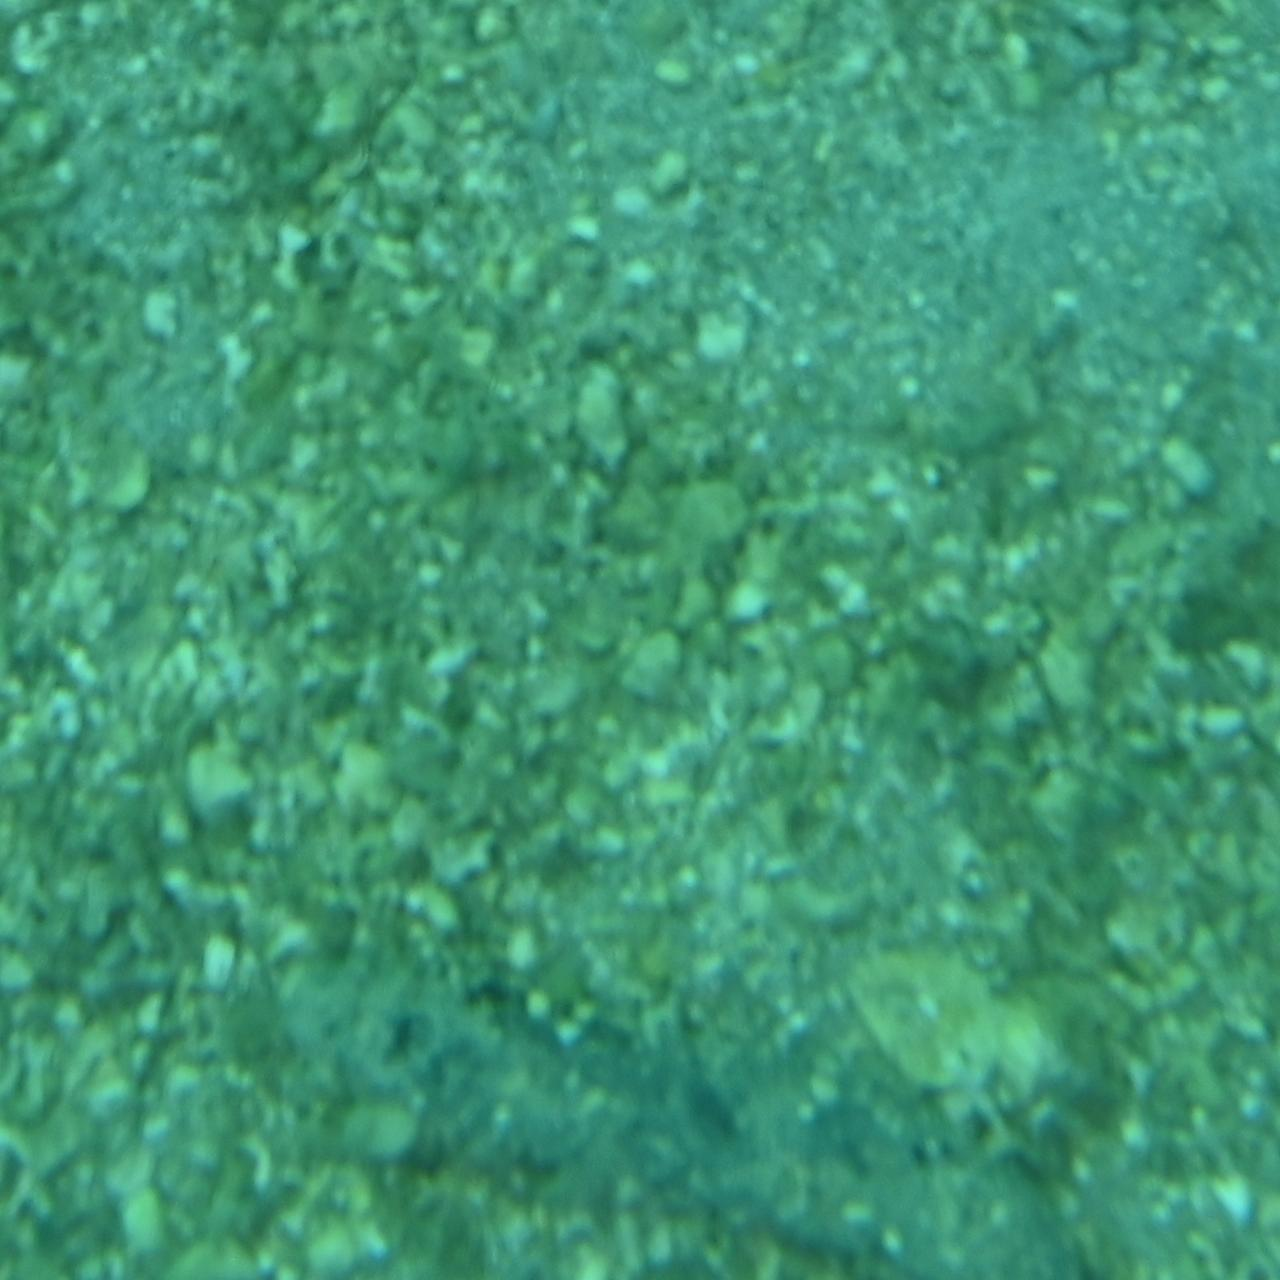Holothuria tubulosa: (177, 936, 1103, 1278)
